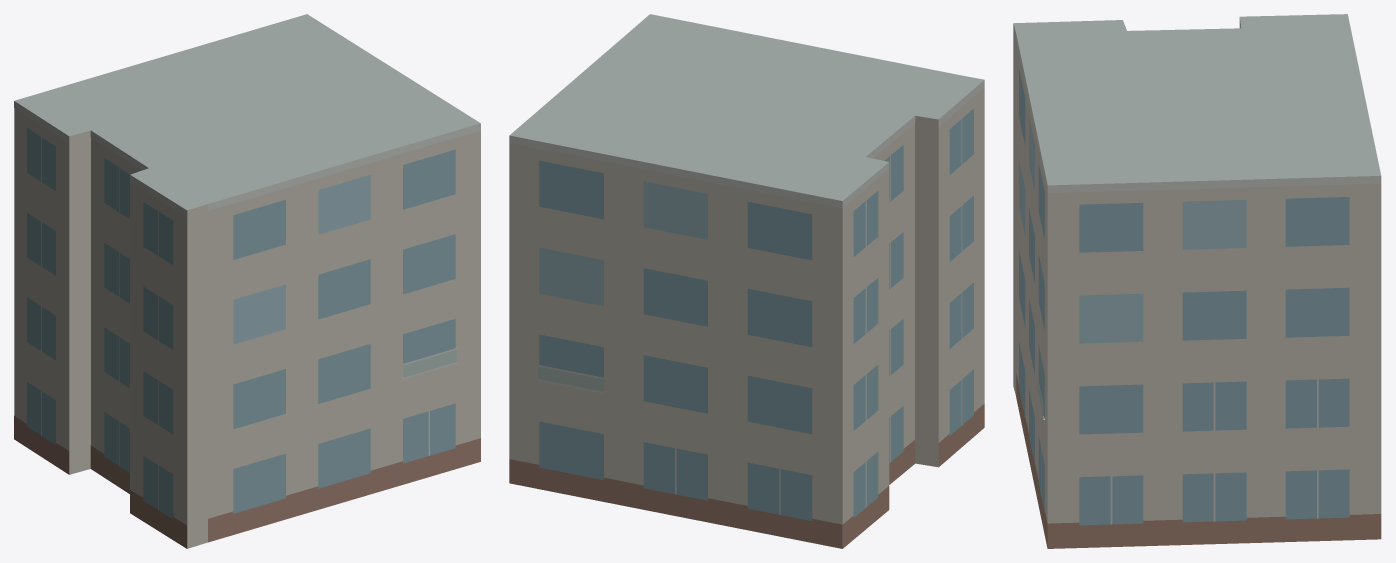
The model's file is survey-upis-32705902.glb.
3 renders of one model, left to right at view 1: azimuth 30°, elevation 25°; view 2: azimuth 150°, elevation 25°; view 3: azimuth 270°, elevation 25°, orthographic. The views are drawn at different scales.
Parts seen in each view (by area): view 1: survey-upis-32705902.tmp; view 2: survey-upis-32705902.tmp; view 3: survey-upis-32705902.tmp.
Part boxes in pixels (bbox=[...]): survey-upis-32705902.tmp: bbox=[14, 14, 480, 548]; survey-upis-32705902.tmp: bbox=[509, 14, 984, 548]; survey-upis-32705902.tmp: bbox=[1013, 14, 1381, 548].
Size of the model in its own units: 11.79 by 11.65 by 10.69.
